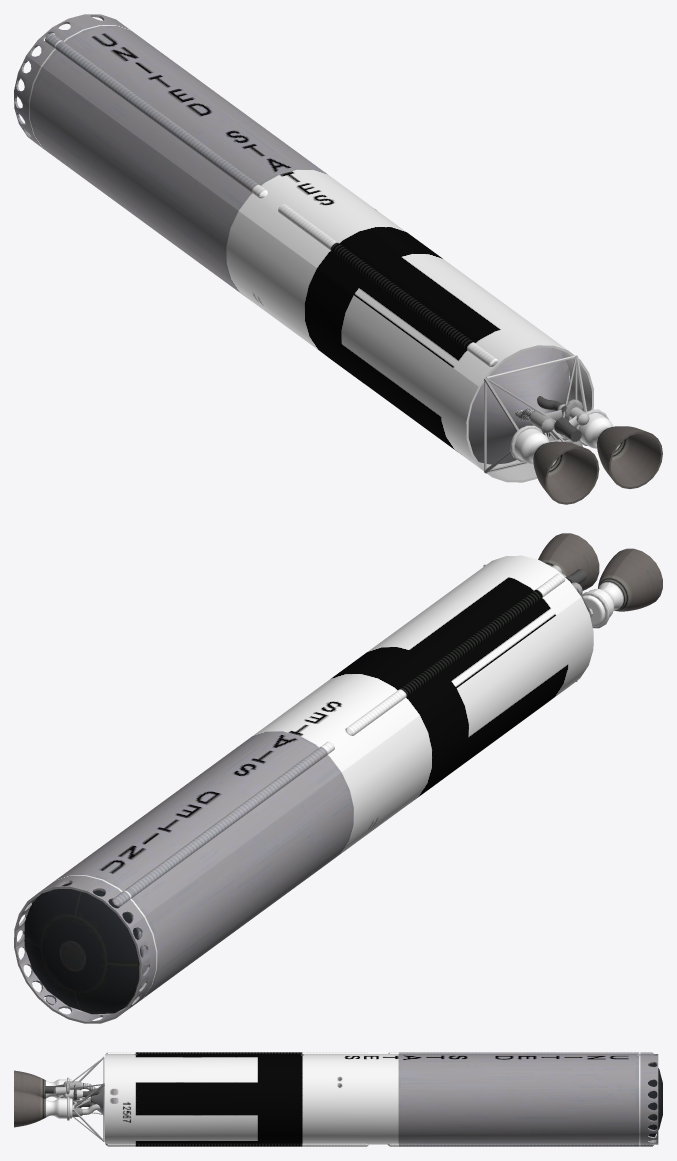
File: titan21.obj
3 renders of one model, top to bottom at view 1: azimuth 30°, elevation 25°; view 2: azimuth 150°, elevation 25°; view 3: azimuth 270°, elevation 25°, orthographic. The views are drawn at different scales.
Parts seen in each view (by area): view 1: group0, group2, group9, group8, group5, group6, group38; view 2: group0, group1, group9, group5, group6, group8; view 3: group0, group8, group4, group7, group9, group1, group5, group6, group2.
Boxes of the visible parts, x1=… form: group0: x1=14, y1=14, x2=593, y2=482; group2: x1=468, y1=347, x2=570, y2=464; group9: x1=512, y1=427, x2=599, y2=504; group8: x1=575, y1=411, x2=662, y2=488; group5: x1=45, y1=33, x2=267, y2=198; group6: x1=278, y1=204, x2=497, y2=366; group38: x1=479, y1=350, x2=591, y2=480; group0: x1=14, y1=555, x2=593, y2=1023; group1: x1=24, y1=882, x2=148, y2=1014; group9: x1=582, y1=548, x2=662, y2=626; group5: x1=112, y1=741, x2=334, y2=906; group6: x1=345, y1=573, x2=565, y2=735; group8: x1=538, y1=533, x2=599, y2=590; group0: x1=105, y1=1054, x2=658, y2=1144; group8: x1=14, y1=1089, x2=72, y2=1127; group4: x1=387, y1=1143, x2=654, y2=1146; group7: x1=106, y1=1143, x2=368, y2=1146; group9: x1=14, y1=1070, x2=72, y2=1098; group1: x1=648, y1=1063, x2=662, y2=1140; group5: x1=388, y1=1052, x2=653, y2=1053; group6: x1=106, y1=1052, x2=368, y2=1053; group2: x1=92, y1=1083, x2=103, y2=1114.
Size of the model in its own units: 3.08 by 3.08 by 22.16.
Materials: 6 (1 with a texture image).
